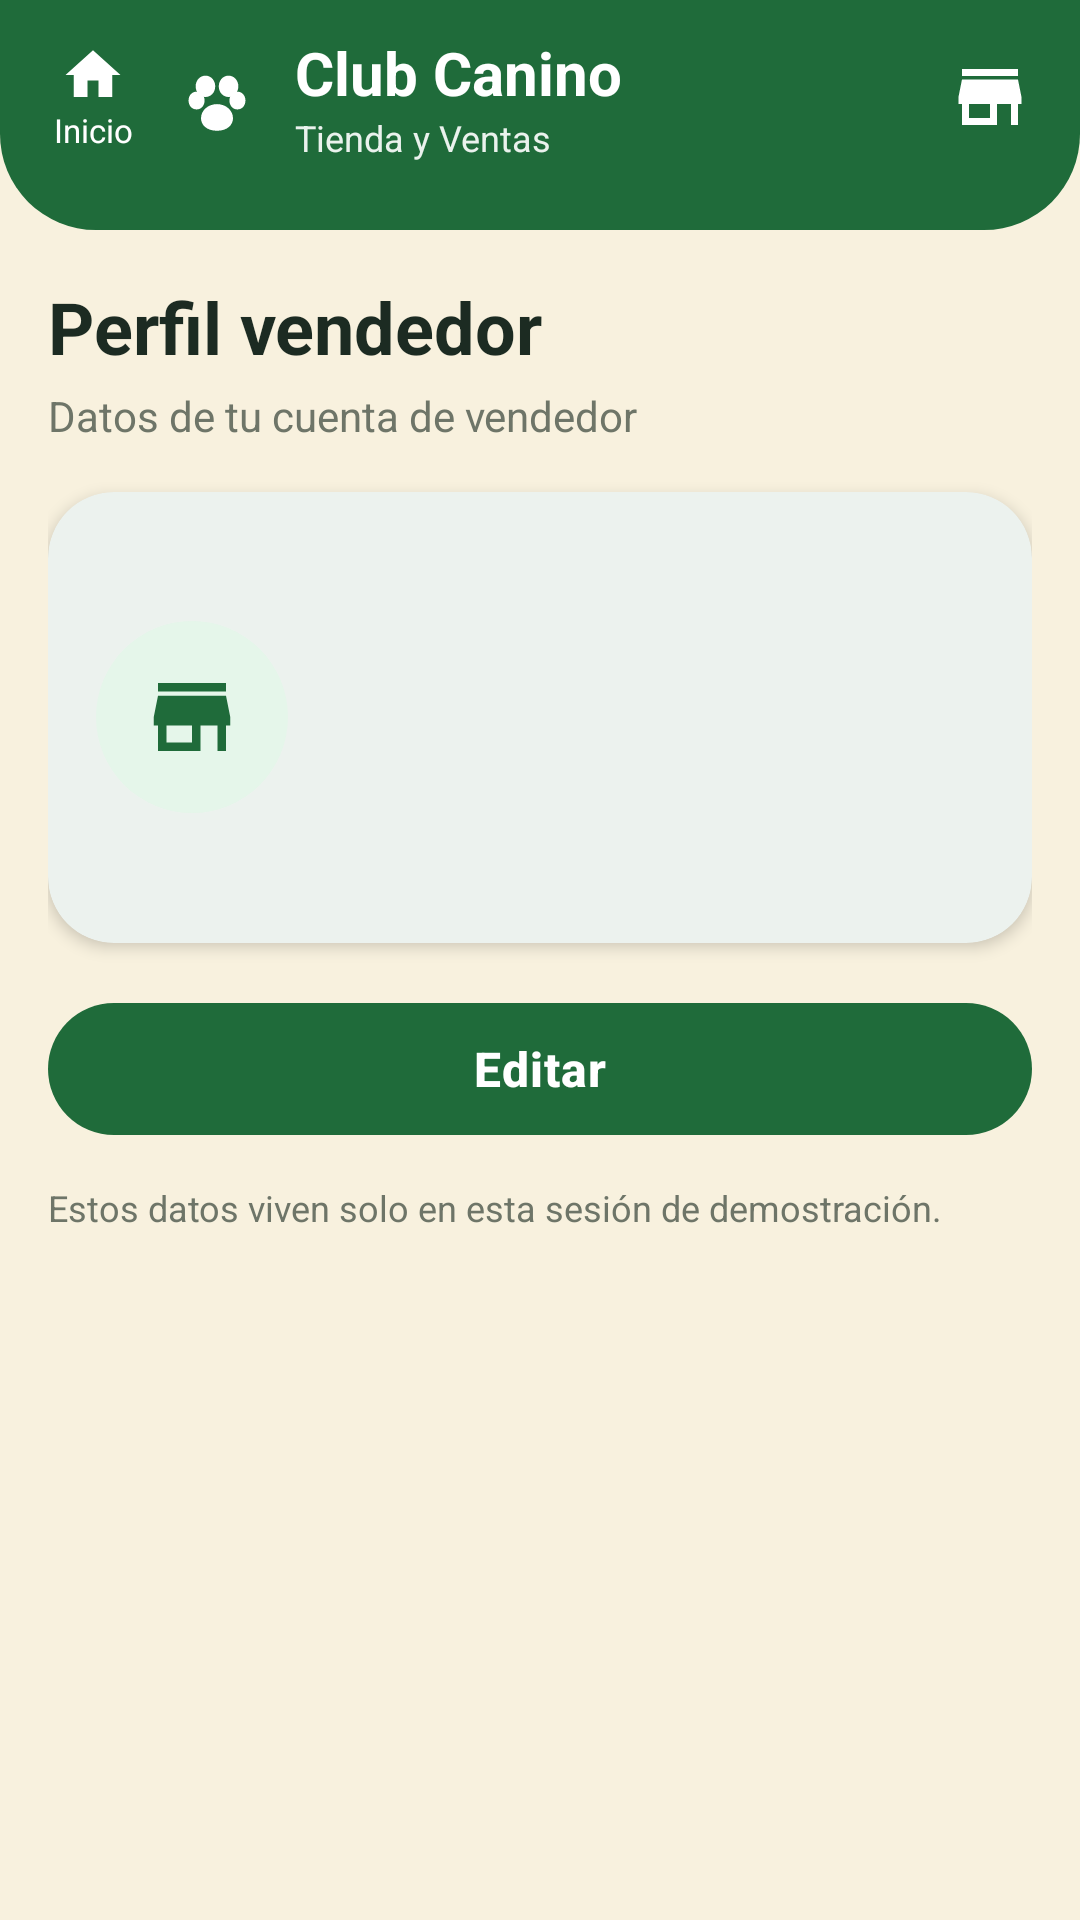

Where icons sit on this 1080×1920 app screen, as (x1, y1, x2, y2):
paw: (188, 75, 246, 131)
store: (958, 69, 1022, 125), (153, 683, 231, 751)
